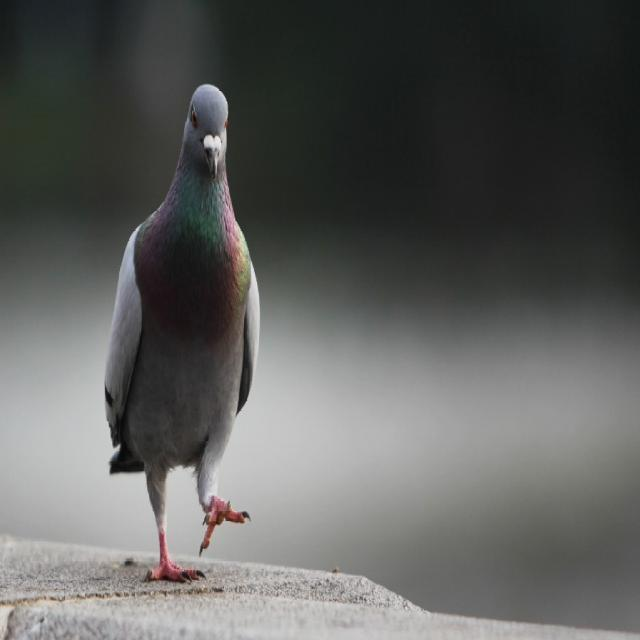bird: (92, 58, 274, 604)
